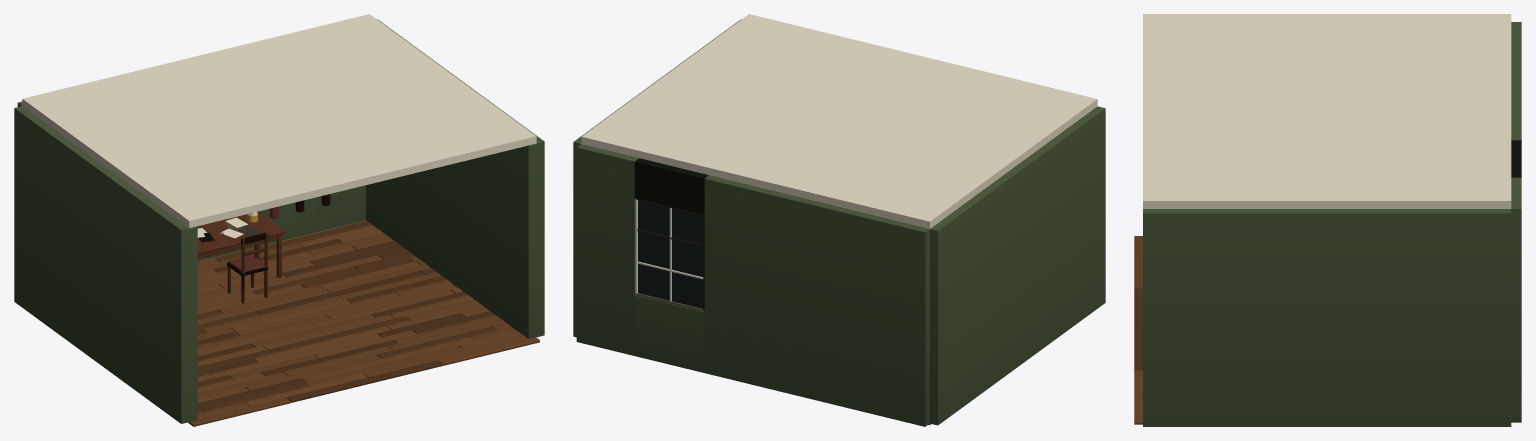
File: room.glb
3 views of the same model, side by side, from view 1: azimuth 30°, elevation 25°; view 2: azimuth 150°, elevation 25°; view 3: azimuth 270°, elevation 25° (orthographic). The views are drawn at different scales.
Parts seen in each view (by area): view 1: room.plaster.5, room.plaster.6, room.plank.1, room.plank.0, room.plank.7, room.plank.8, room.paper.13; view 2: room.plaster.5, room.plaster.6, room.glass.2, room.paint.3; view 3: room.plaster.5, room.plaster.6, room.plank.1, room.plank.0.
Boxes of the visible parts, left/top/right/bottom form: room.plaster.5: left=14, top=19, right=544, bottom=423; room.plaster.6: left=22, top=14, right=536, bottom=228; room.plank.1: left=188, top=220, right=539, bottom=426; room.plank.0: left=197, top=221, right=496, bottom=413; room.plank.7: left=197, top=211, right=285, bottom=277; room.plank.8: left=227, top=231, right=268, bottom=303; room.paper.13: left=197, top=217, right=262, bottom=242; room.plaster.5: left=573, top=19, right=1105, bottom=426; room.plaster.6: left=581, top=14, right=1097, bottom=228; room.glass.2: left=638, top=200, right=703, bottom=308; room.paint.3: left=635, top=198, right=704, bottom=311; room.plaster.5: left=1143, top=22, right=1521, bottom=426; room.plaster.6: left=1143, top=14, right=1511, bottom=208; room.plank.1: left=1134, top=236, right=1142, bottom=424; room.plank.0: left=1134, top=288, right=1142, bottom=370.
Bounding box in the file's own units: 6.28 × 3.36 × 5.26.
